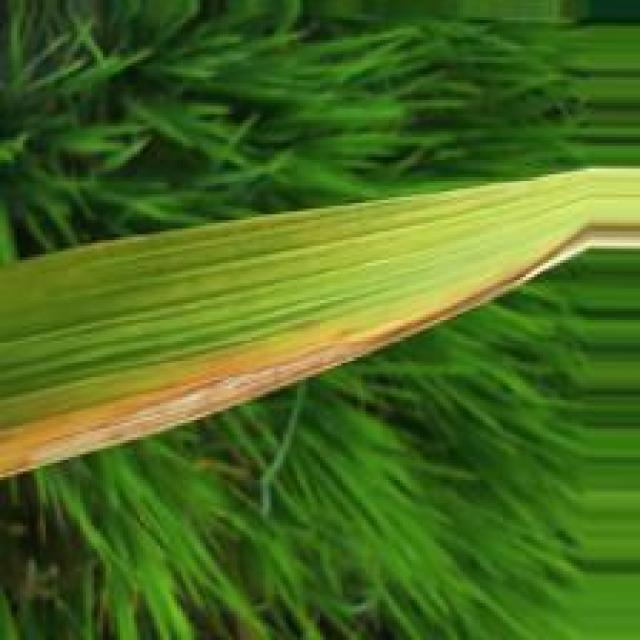Leaf_Scald: (0, 219, 640, 483)
